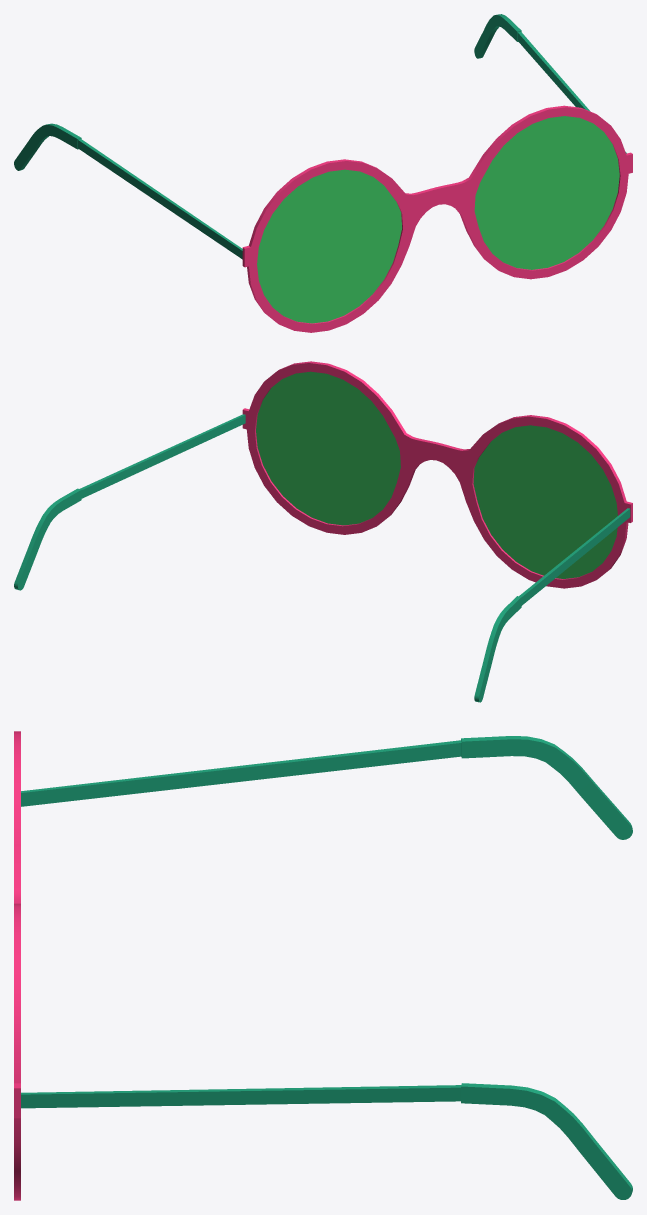
Rendered from glasses9.001.obj.
The picture shows the model from 3 angles, top to bottom: view 1: azimuth 30°, elevation 25°; view 2: azimuth 150°, elevation 25°; view 3: azimuth 270°, elevation 25°; orthographic projection. The views are drawn at different scales.
Parts seen in each view (by area): view 1: glasses9.001_glasses9.001_Material.023, glasses9.001_glasses9.001_Material.021, glasses9.001_glasses9.001_Material.022; view 2: glasses9.001_glasses9.001_Material.023, glasses9.001_glasses9.001_Material.021, glasses9.001_glasses9.001_Material.022; view 3: glasses9.001_glasses9.001_Material.022, glasses9.001_glasses9.001_Material.021.
Part boxes in pixels (x1,y1,x2,y2): glasses9.001_glasses9.001_Material.023: (257, 116, 619, 323); glasses9.001_glasses9.001_Material.021: (242, 105, 632, 332); glasses9.001_glasses9.001_Material.022: (14, 14, 626, 259); glasses9.001_glasses9.001_Material.023: (256, 371, 617, 578); glasses9.001_glasses9.001_Material.021: (242, 361, 632, 588); glasses9.001_glasses9.001_Material.022: (14, 414, 630, 702); glasses9.001_glasses9.001_Material.022: (21, 736, 632, 1199); glasses9.001_glasses9.001_Material.021: (14, 731, 20, 1200).
Bounding box in the file's own units: 2.15 × 0.7403 × 1.54.
